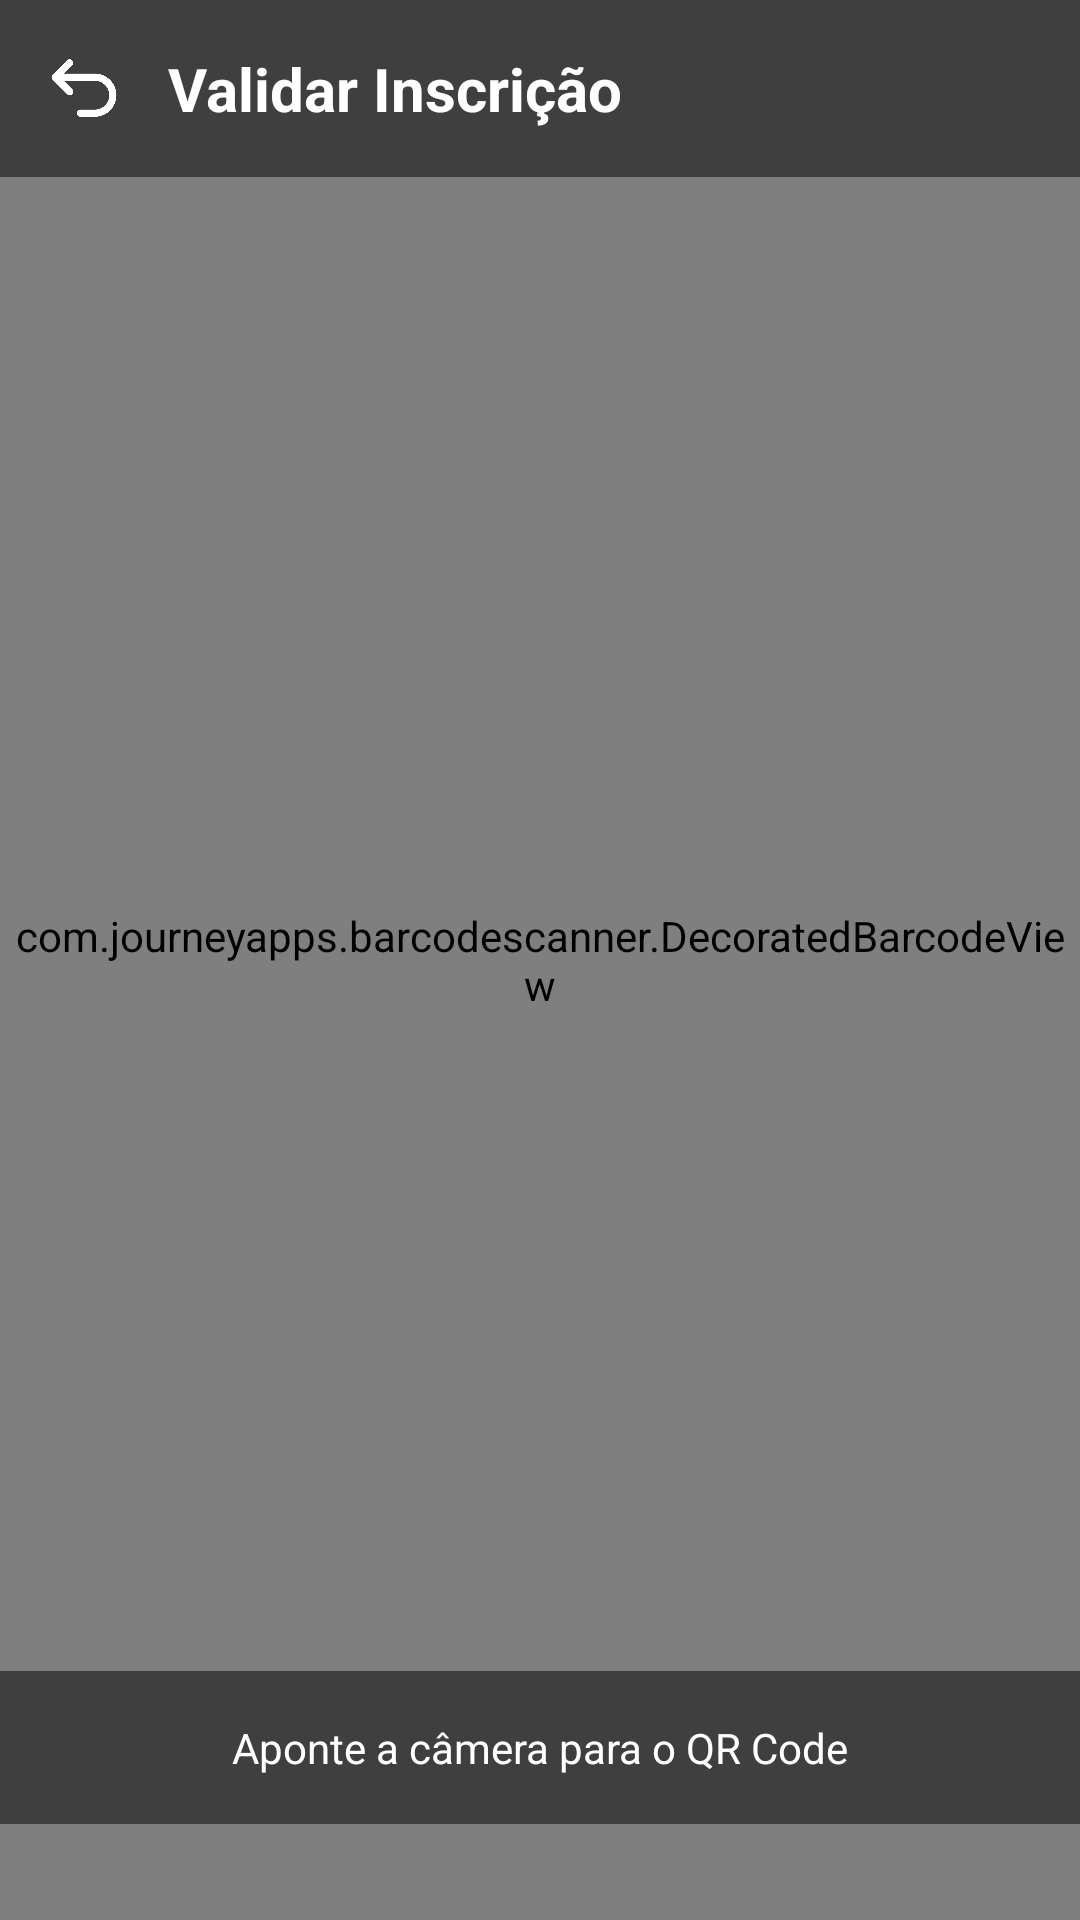

Point at icon controls on the screen. Image size 1080px x 1920px, points as [x,y].
voltar seta: [84,88]
